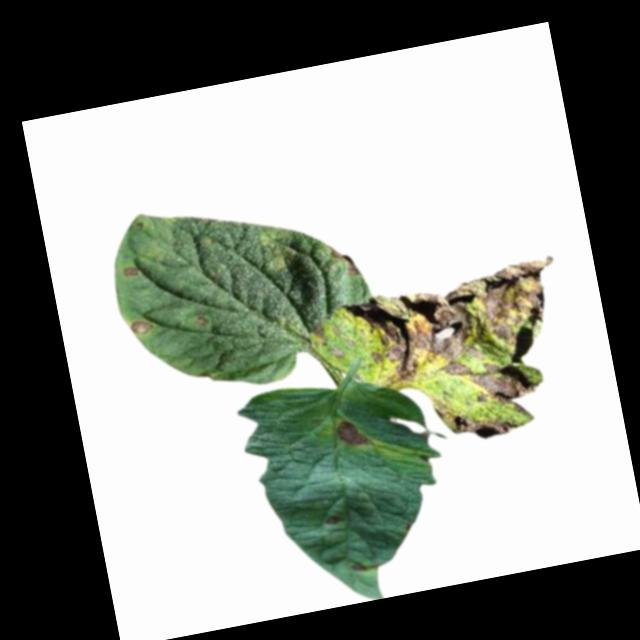Early_blight: (339, 254, 578, 426), (452, 400, 523, 444), (333, 414, 371, 452), (328, 241, 360, 278), (127, 314, 156, 340), (311, 318, 329, 343), (349, 558, 368, 576), (321, 513, 342, 527), (121, 264, 138, 277)
